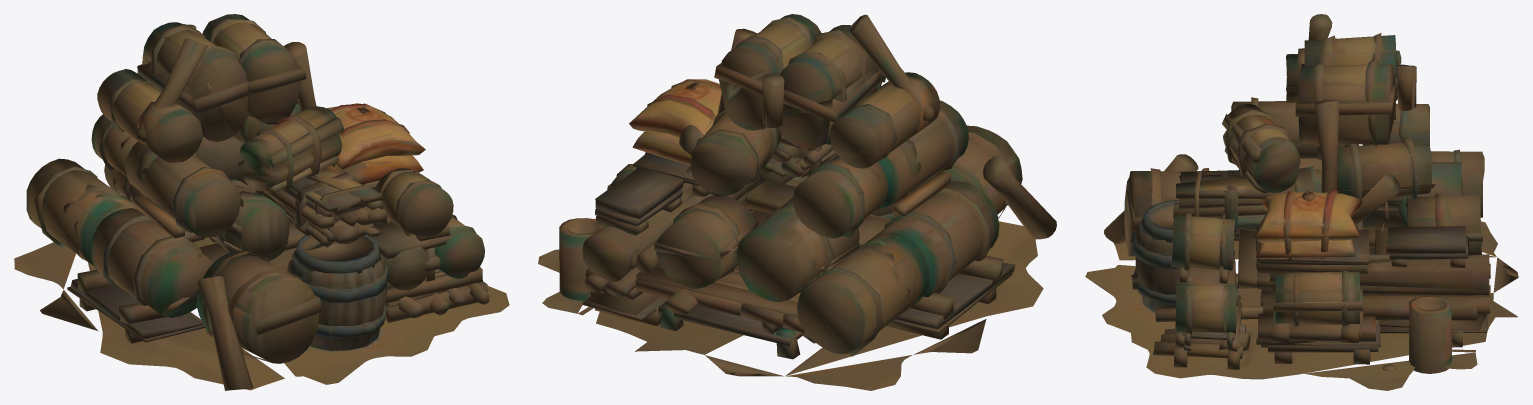
File: supply_pile.glb
3 renders of one model, left to right at view 1: azimuth 30°, elevation 25°; view 2: azimuth 150°, elevation 25°; view 3: azimuth 270°, elevation 25°, orthographic. The views are drawn at different scales.
Size of the model in its own units: 0.9541 by 0.6123 by 0.9458.
1 material, 1 textured.
